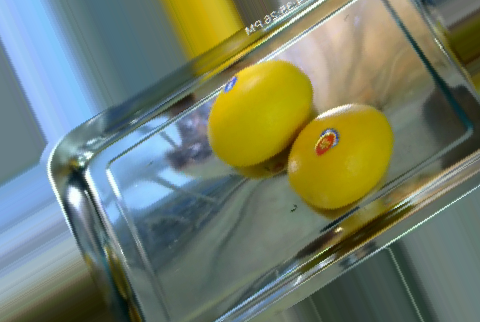Orange: (206, 59, 313, 166), (288, 102, 394, 209)
